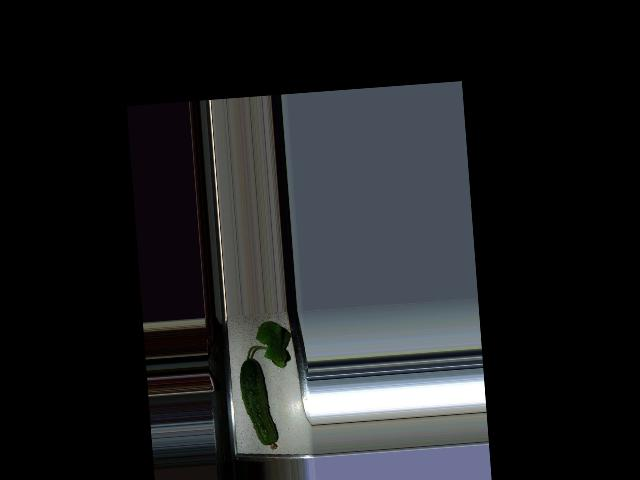cucumber: (238, 356, 278, 451)
